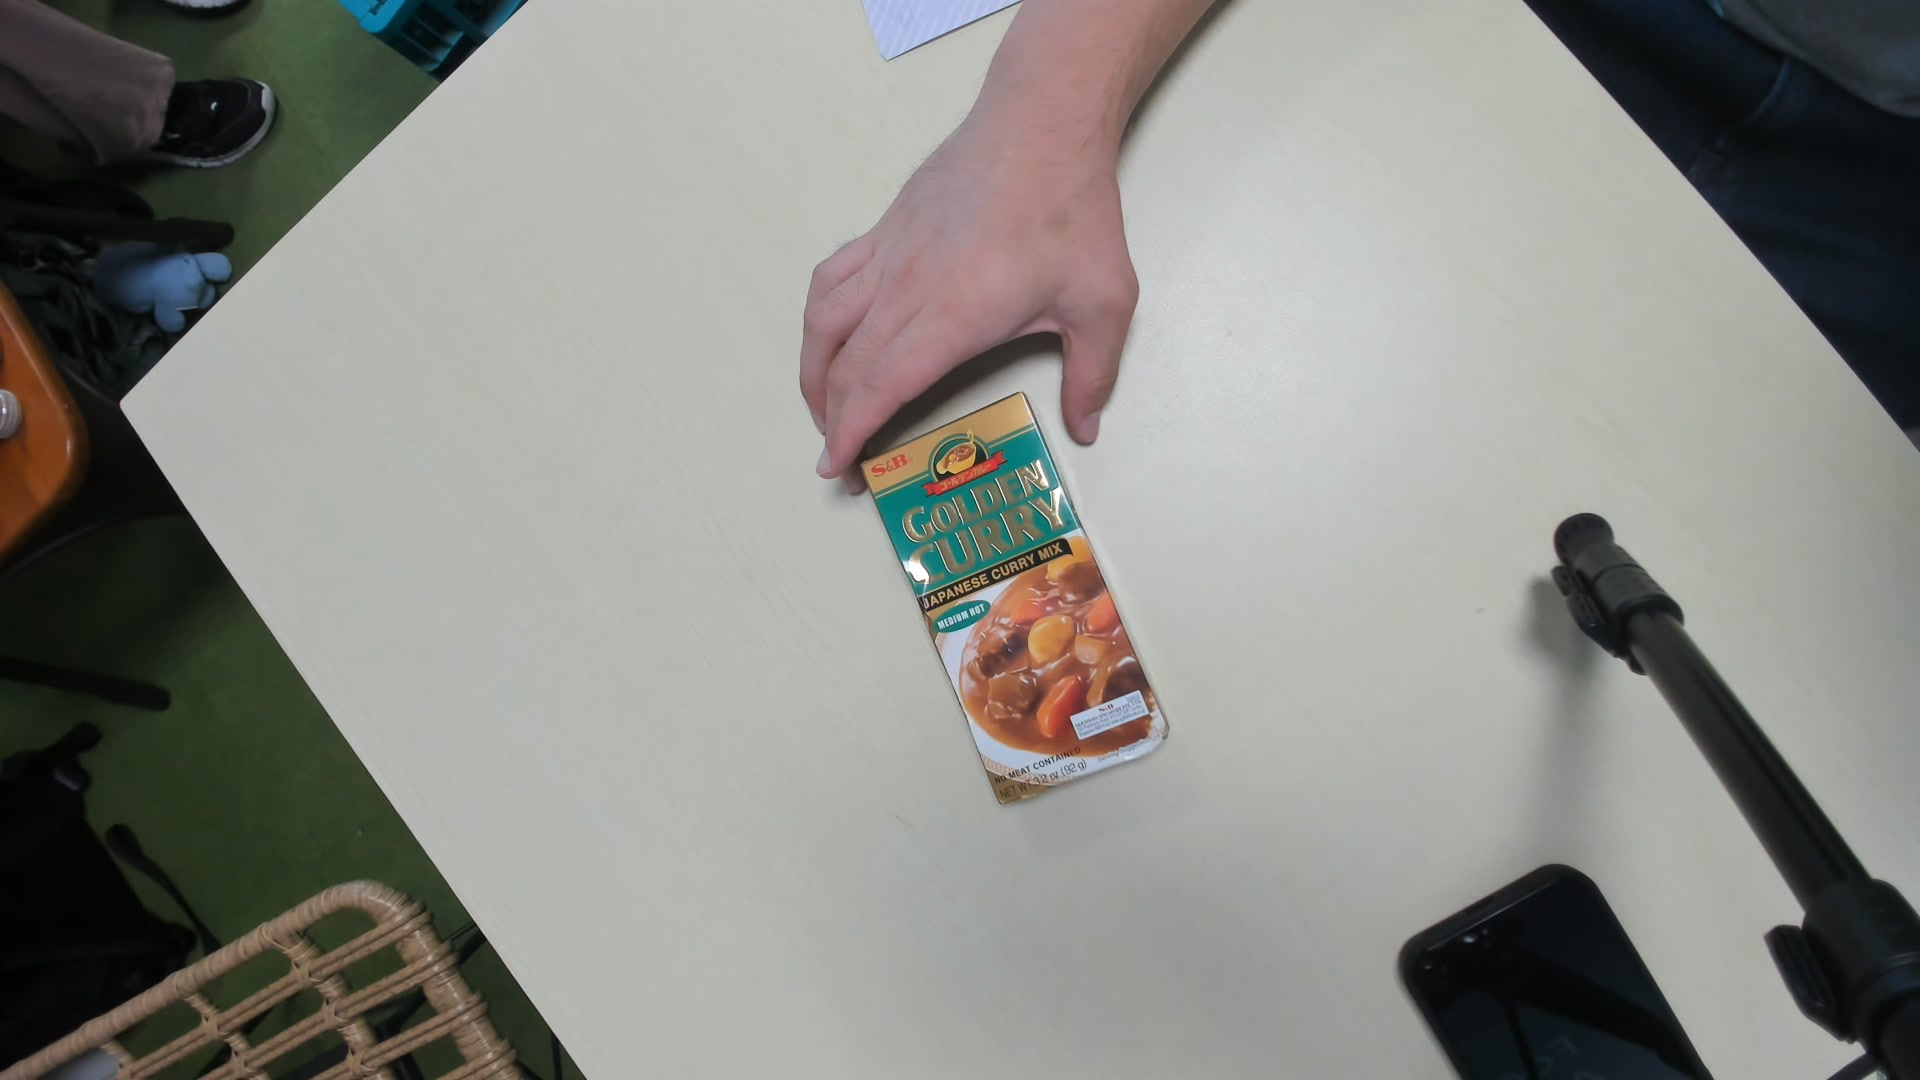OtherSauceDressing_0-99g_NonHalal_NonHealthy: (861, 396, 1174, 804)
